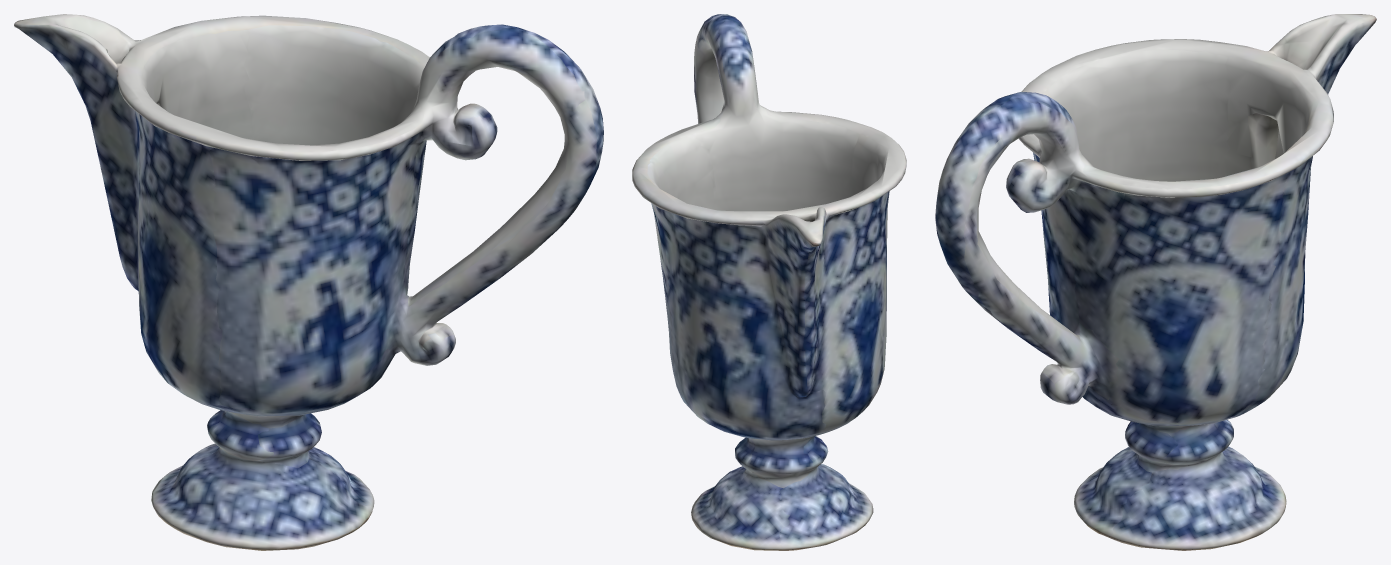
Rendered from si-delft-ewer.lod1.glb.
3 renders of one model, left to right at view 1: azimuth 30°, elevation 25°; view 2: azimuth 150°, elevation 25°; view 3: azimuth 270°, elevation 25°, orthographic. The views are drawn at different scales.
Parts seen in each view (by area): view 1: sourced_fit; view 2: sourced_fit; view 3: sourced_fit.
Boxes of the visible parts, x1=… form: sourced_fit: x1=14, y1=14, x2=603, y2=550; sourced_fit: x1=632, y1=14, x2=906, y2=550; sourced_fit: x1=935, y1=14, x2=1376, y2=550.
Bounding box in the file's own units: 0.1752 × 0.2298 × 0.1906.
Materials: 1 (1 with a texture image).
